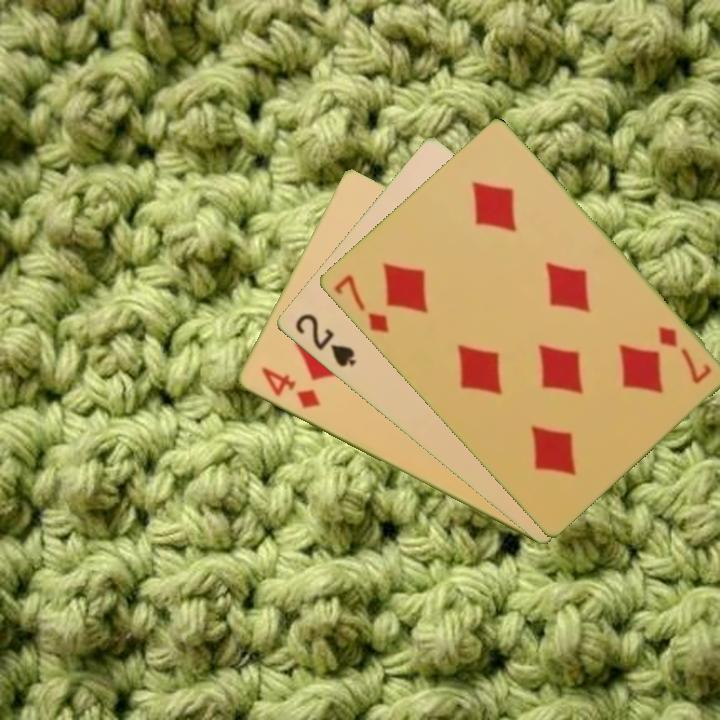2s: (290, 310, 359, 370)
4d: (256, 363, 323, 412)
7d: (329, 271, 392, 336), (654, 322, 714, 387)
